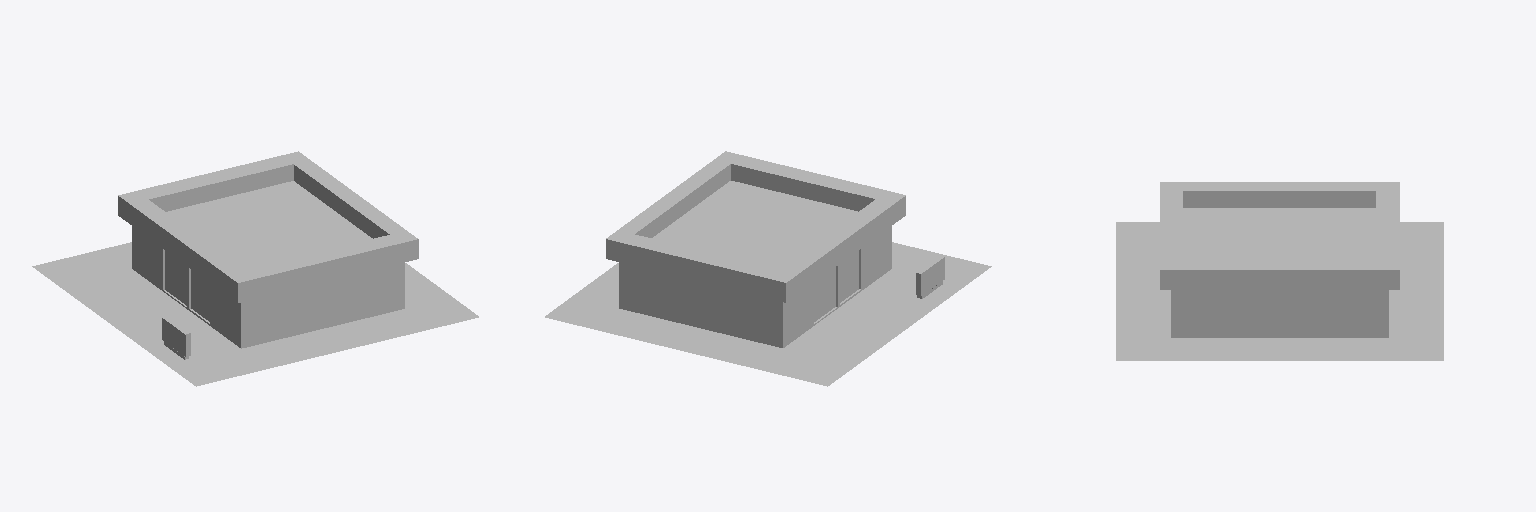
The model's file is supermarket.obj.
The picture shows the model from 3 angles: view 1: azimuth 30°, elevation 25°; view 2: azimuth 150°, elevation 25°; view 3: azimuth 270°, elevation 25°; orthographic projection.
Parts seen in each view (by area): view 1: Cube.001; view 2: Cube.001; view 3: Cube.001.
Part boxes in pixels (x1,y1,x2,y2): Cube.001: (32, 151, 478, 386); Cube.001: (545, 151, 991, 386); Cube.001: (1116, 182, 1443, 360).
Bounding box in the file's own units: 1.55 × 0.3729 × 1.55.